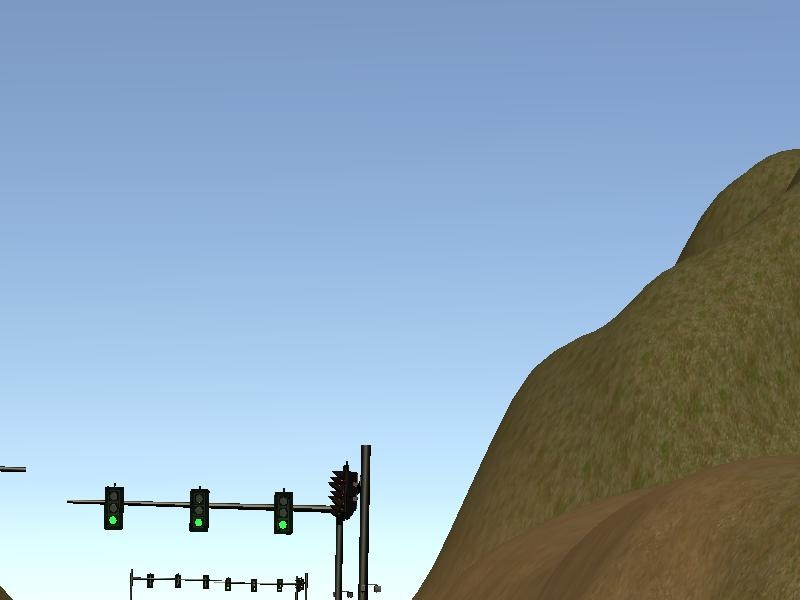traffic_light_green: (83, 483, 331, 536)
